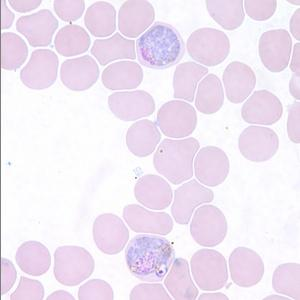Infected: (125, 234, 177, 283), (134, 22, 184, 67)
Uninfected: (152, 138, 203, 186), (173, 179, 214, 223), (52, 244, 94, 285), (160, 258, 201, 300), (15, 8, 59, 47), (186, 27, 230, 65), (20, 49, 59, 90), (189, 205, 226, 248), (156, 100, 197, 138), (124, 204, 174, 235), (241, 89, 282, 126), (228, 246, 265, 287), (92, 212, 128, 254), (222, 61, 257, 103), (194, 145, 229, 187), (117, 0, 155, 38), (60, 54, 99, 91), (134, 174, 173, 211), (239, 126, 279, 162), (172, 62, 208, 102), (191, 250, 227, 290), (259, 29, 292, 72), (108, 90, 154, 120), (126, 119, 162, 156), (102, 60, 143, 92), (15, 240, 51, 276), (194, 72, 224, 114), (83, 1, 117, 38), (206, 0, 245, 30), (54, 25, 90, 56), (0, 32, 27, 70), (78, 278, 114, 300), (244, 0, 277, 21), (55, 0, 86, 22)
